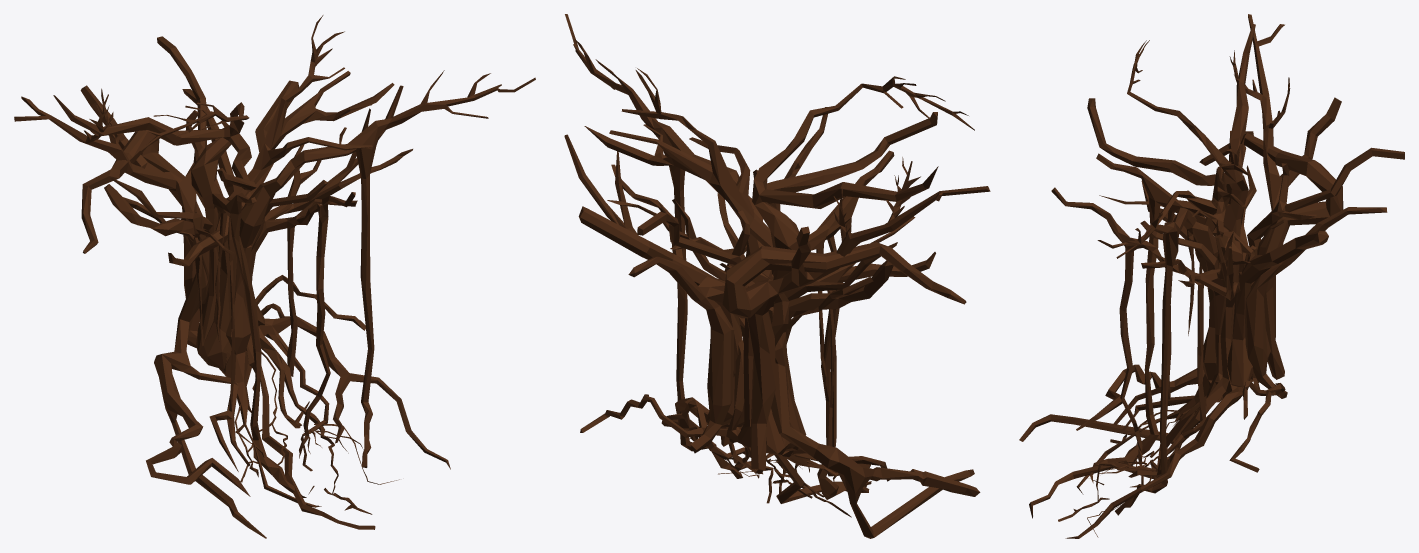
The model's file is tree2 1.fbx.
3 renders of one model, left to right at view 1: azimuth 30°, elevation 25°; view 2: azimuth 150°, elevation 25°; view 3: azimuth 270°, elevation 25°, orthographic. The views are drawn at different scales.
Parts seen in each view (by area): view 1: Vert.004; view 2: Vert.004; view 3: Vert.004.
Boxes of the visible parts, x1=… form: Vert.004: x1=14, y1=15, x2=535, y2=538; Vert.004: x1=564, y1=14, x2=990, y2=538; Vert.004: x1=1019, y1=14, x2=1404, y2=538.
Bounding box in the file's own units: 1239 × 1120 × 947.
